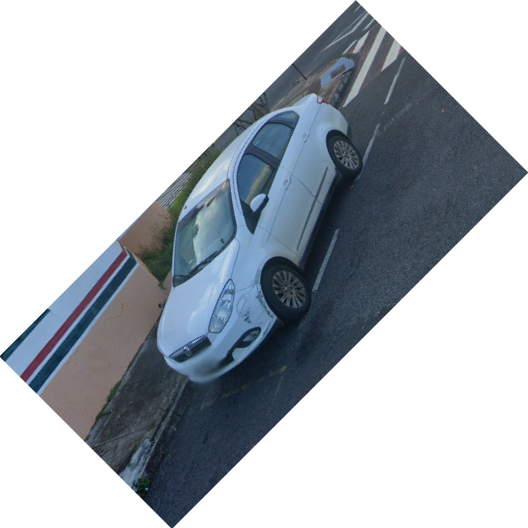car: (153, 89, 368, 400)
